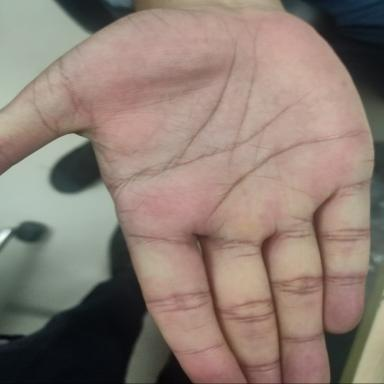normal skin: (2, 4, 373, 383)
